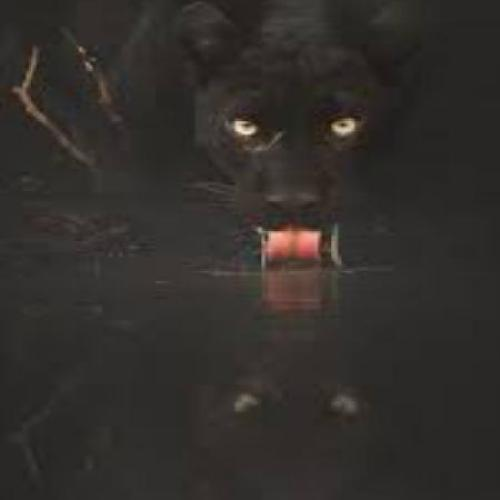panther-endangered: (126, 9, 419, 257)
